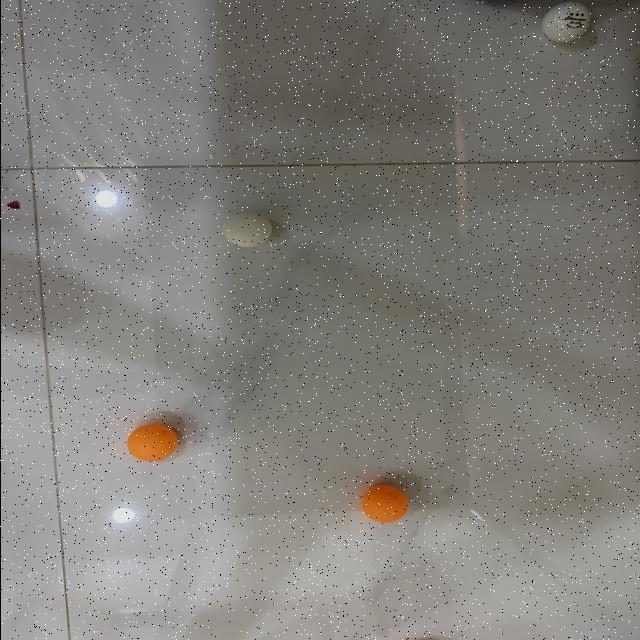ping-pong-ball: (540, 1, 590, 43), (125, 424, 178, 462), (360, 485, 408, 525), (220, 212, 272, 248)
